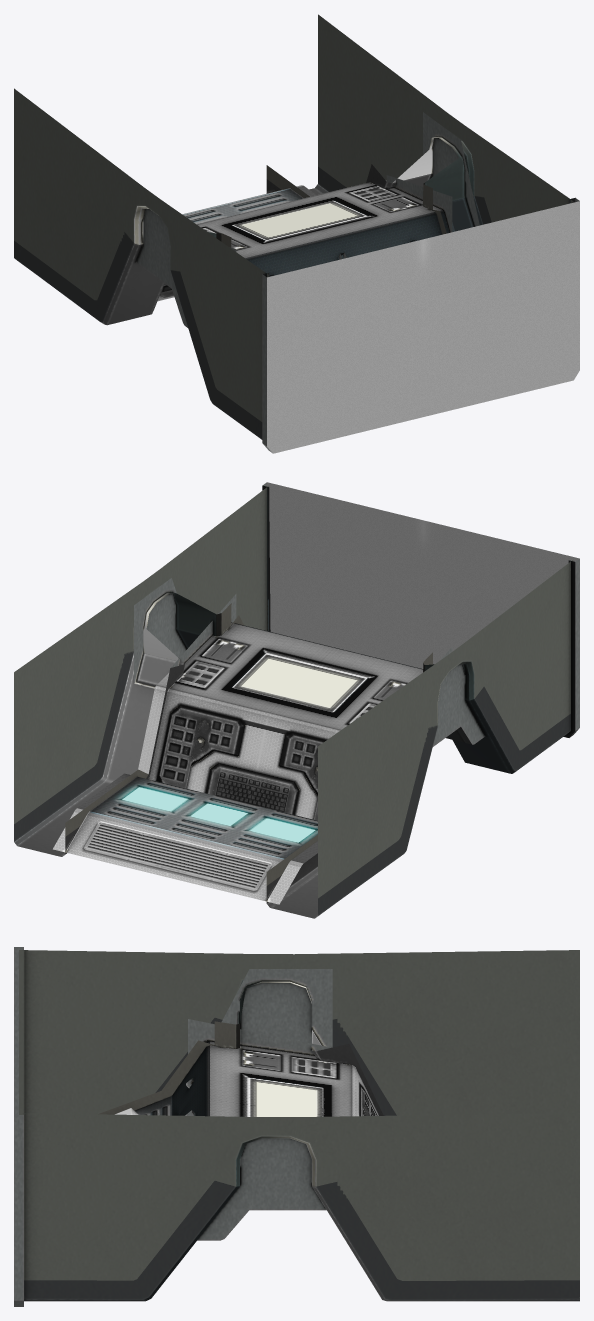
File: console.obj
3 renders of one model, top to bottom at view 1: azimuth 30°, elevation 25°; view 2: azimuth 150°, elevation 25°; view 3: azimuth 270°, elevation 25°, orthographic. The views are drawn at different scales.
Visible parts, largest first — view 1: g0; view 2: g0; view 3: g0.
Part boxes in pixels (box(x1,y1,x2,y2)): g0: box(14, 14, 579, 453); g0: box(14, 482, 579, 918); g0: box(14, 947, 579, 1306).
Size of the model in its own units: 1.84 by 1 by 2.63.
